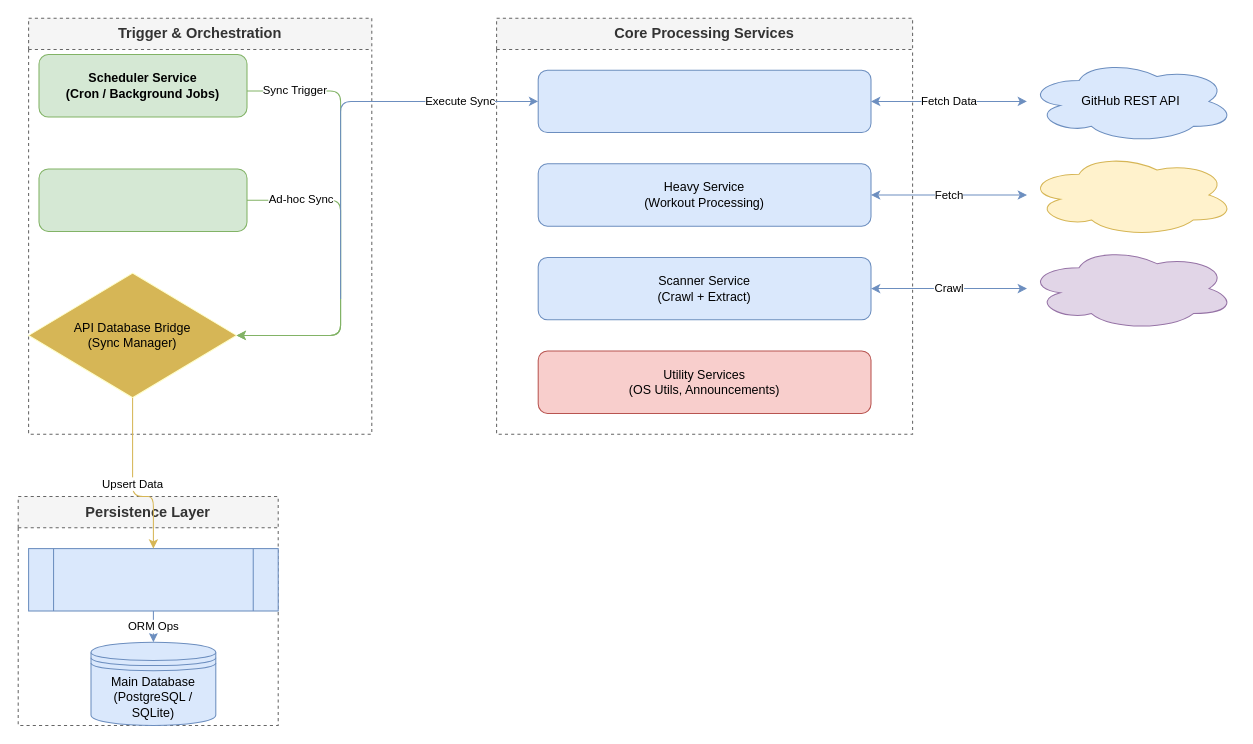
Image size: 1253x744. Some labels were removed from this diagram. Here are the shapes that lost their labels. From the top down, the centre of each, then its label:
At [704,101]: "Github Service (API Client + Utils)".
At [142,199]: "FastAPI Endpoints (User Requests)".
At [1130,194]: "Heavy API (Workout Data)".
At [1130,288]: "Websites / Sitemaps (Scanner Source)".
At [153,579]: "Github Database Handler (ORM Logic)".
